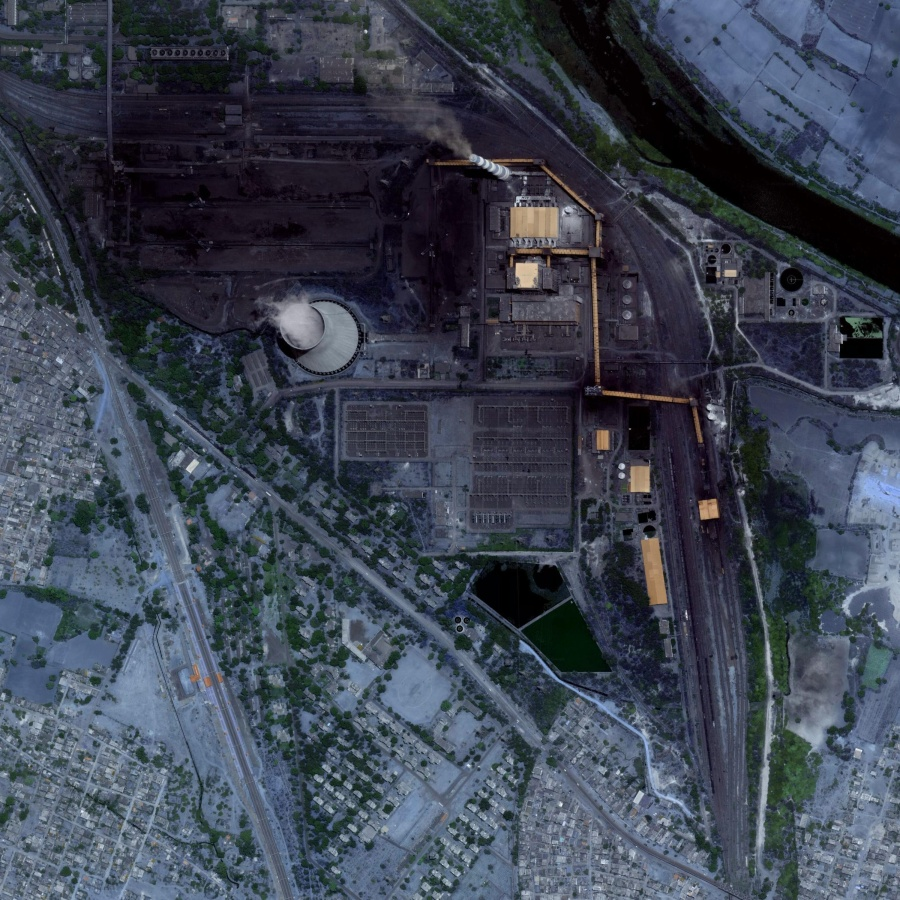PowerPlant: (78, 52, 571, 407)
